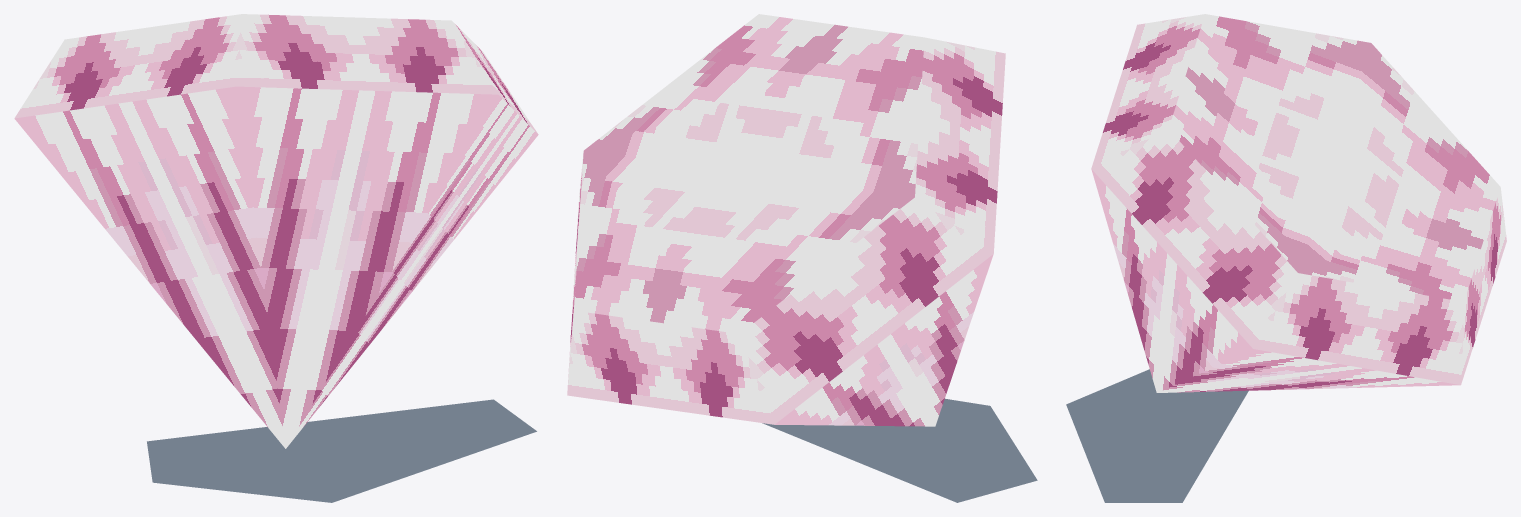
3 renders of one model, left to right at view 1: azimuth 30°, elevation 25°; view 2: azimuth 150°, elevation 25°; view 3: azimuth 270°, elevation 25°, orthographic. The views are drawn at different scales.
Visible parts, largest first — view 1: 01_polygon0, 00_polygon1; view 2: 01_polygon0, 00_polygon1; view 3: 01_polygon0, 00_polygon1.
Boxes of the visible parts, x1,y1,x2,y2 form: 01_polygon0: (14,14,538,448); 00_polygon1: (147,399,536,502); 01_polygon0: (567,14,1005,426); 00_polygon1: (762,398,1037,502); 01_polygon0: (1091,14,1506,392); 00_polygon1: (1066,369,1248,502).
Bounding box in the file's own units: 0.3898 × 0.3423 × 0.3547.
1 material, 1 textured.
